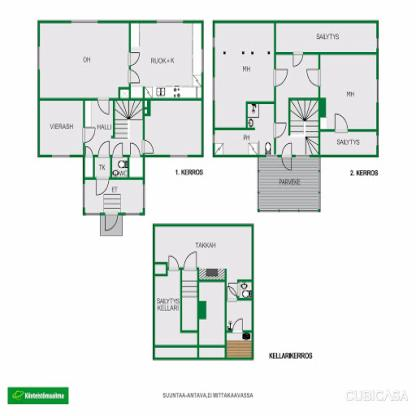door: (279, 141, 294, 173), (182, 250, 199, 272), (306, 68, 321, 89), (128, 140, 142, 162), (334, 113, 348, 134), (110, 142, 127, 159), (139, 140, 157, 156), (93, 175, 108, 194), (97, 99, 111, 119), (274, 69, 290, 86), (99, 140, 114, 158), (104, 211, 118, 230), (127, 51, 141, 69), (272, 122, 288, 137), (292, 50, 303, 70), (82, 128, 97, 142), (232, 317, 245, 332), (168, 254, 180, 270), (127, 70, 139, 84), (84, 148, 95, 158)
window: (156, 17, 184, 25), (50, 152, 71, 160), (211, 77, 216, 102), (70, 19, 98, 23), (83, 184, 88, 206), (375, 78, 380, 100), (200, 49, 204, 73), (169, 154, 191, 158), (37, 47, 41, 68), (126, 210, 142, 215), (88, 210, 100, 216), (212, 37, 216, 49), (142, 183, 144, 206), (376, 37, 380, 48), (376, 135, 380, 146), (212, 136, 216, 143)
zone: (39, 22, 129, 98), (216, 22, 274, 127), (131, 22, 202, 98), (156, 225, 250, 279), (319, 55, 375, 129), (276, 54, 316, 153), (144, 99, 201, 154), (156, 272, 198, 345), (145, 100, 200, 154), (260, 157, 319, 207), (215, 104, 274, 153), (277, 23, 377, 51), (40, 101, 84, 154), (226, 280, 252, 355), (86, 178, 143, 212), (199, 280, 224, 346), (86, 101, 116, 154), (115, 101, 141, 153), (321, 131, 376, 154), (155, 345, 197, 358), (112, 157, 128, 176), (95, 157, 109, 177), (198, 348, 224, 358), (130, 156, 142, 177)
